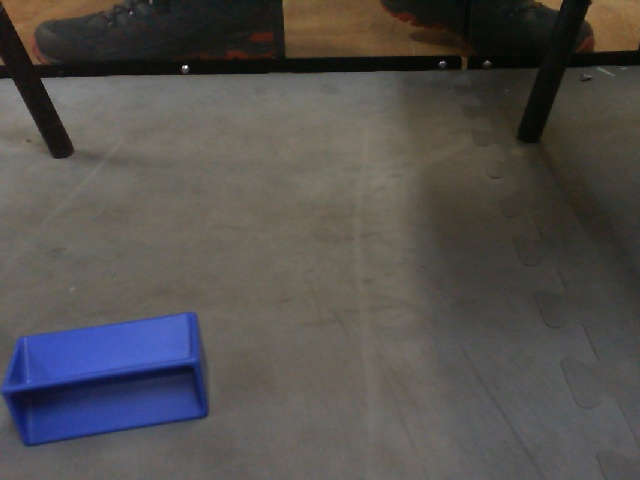BlueSample: (1, 308, 214, 452)
